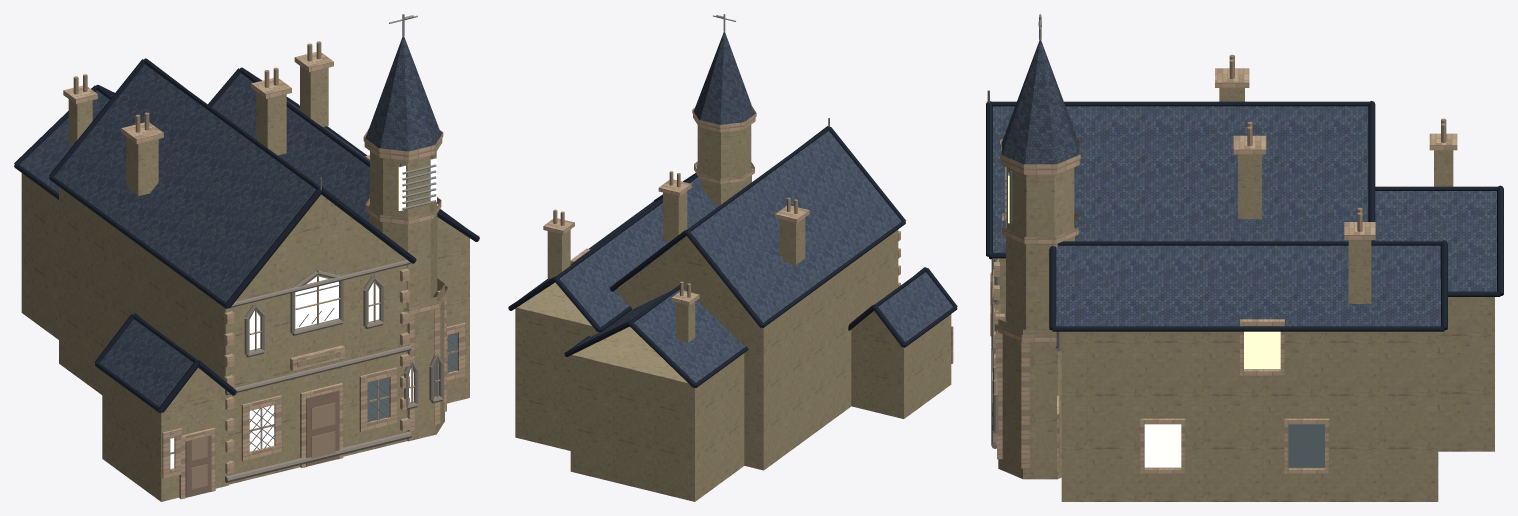
3 renders of one model, left to right at view 1: azimuth 30°, elevation 25°; view 2: azimuth 150°, elevation 25°; view 3: azimuth 270°, elevation 25°, orthographic. The views are drawn at different scales.
Parts seen in each view (by area): view 1: Weathered ashlar sandstone, Blue grey Welsh slate, Dressed sandstone surrounds, windows, Timber rails, Dark stained timber, Dark ironwork, Weathered dark louvres; view 2: Weathered ashlar sandstone, Blue grey Welsh slate, Dressed sandstone surrounds, Timber rails; view 3: Blue grey Welsh slate, Weathered ashlar sandstone, Dressed sandstone surrounds, windows, Timber rails.
Part boxes in pixels (x1,y1,x2,y2): Weathered ashlar sandstone: (21, 66, 469, 501); Blue grey Welsh slate: (14, 36, 479, 413); Dressed sandstone surrounds: (63, 52, 465, 499); windows: (170, 157, 457, 468); Timber rails: (73, 41, 458, 489); Dark stained timber: (185, 390, 339, 497); Dark ironwork: (249, 155, 458, 451); Weathered dark louvres: (402, 164, 436, 209); Weathered ashlar sandstone: (515, 125, 951, 501); Blue grey Welsh slate: (508, 32, 957, 387); Dressed sandstone surrounds: (543, 107, 953, 363); Timber rails: (553, 171, 797, 297); Blue grey Welsh slate: (986, 40, 1503, 331); Weathered ashlar sandstone: (992, 88, 1494, 501); Dressed sandstone surrounds: (991, 68, 1457, 473); windows: (1008, 172, 1324, 467); Timber rails: (990, 54, 1446, 455).
Bounding box in the file's own units: 12.33 × 13.82 × 14.58.
11 materials, 3 textured.
